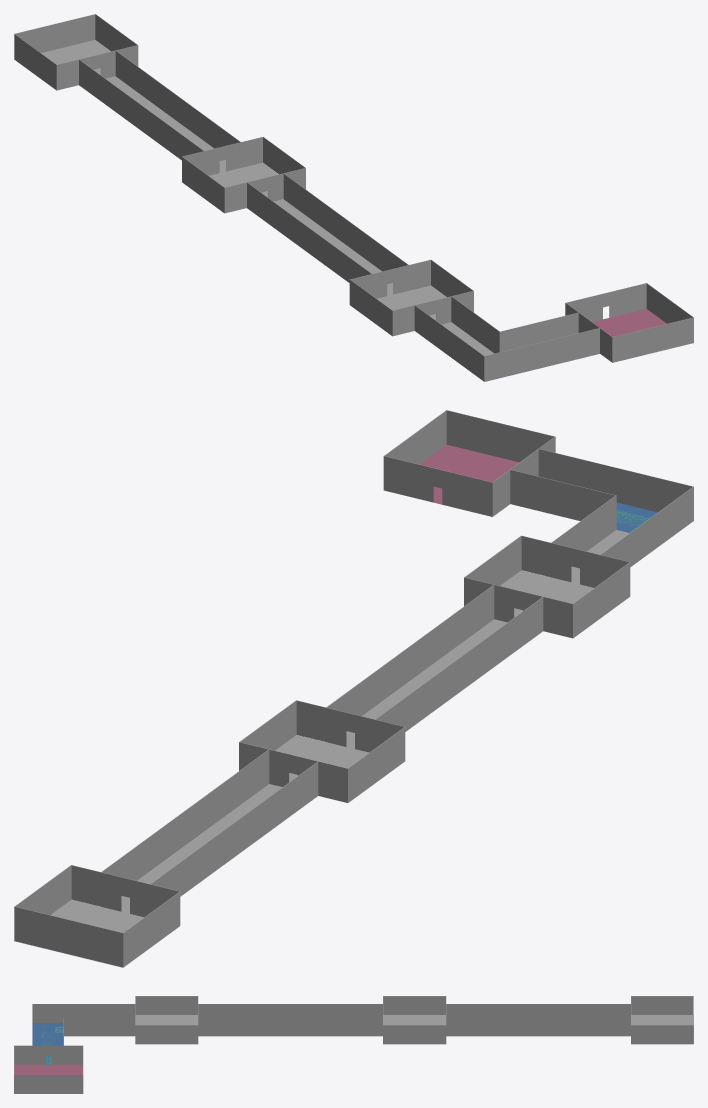
3 views of the same model, one above another, from view 1: azimuth 30°, elevation 25°; view 2: azimuth 150°, elevation 25°; view 3: azimuth 270°, elevation 25° (orthographic). The views are drawn at different scales.
Parts seen in each view (by area): view 1: Paredes_1, Habitacion_4, Paredes_4, Paredes_6, pCube12, pCube31, pCube22, pCube30, pCube23, pCube13, pCube8, pCube14 (+6 smaller); view 2: Habitacion_4, Paredes_1, Paredes_4, Paredes_6, pCube23, pCube30, pCube31, pCube22, pCube12, pCube8, pCube13, Piso_1 (+6 smaller); view 3: pCube22, pCube31, Paredes_1, pCube23, pCube30, Paredes_4, Paredes_6, Habitacion_4, pCube13, pCube14, Piso_2, Piso_1 (+3 smaller).
Part boxes in pixels (x1,y1,x2,y2): Paredes_1: (565,283,693,362); Habitacion_4: (14,14,138,90); Paredes_4: (349,259,473,336); Paredes_6: (182,137,305,213); pCube12: (484,328,599,381); pCube31: (115,51,240,148); pCube22: (283,173,408,271); pCube30: (79,59,203,160); pCube23: (247,182,371,282); pCube13: (414,305,484,381); pCube8: (499,312,578,352); pCube14: (451,296,499,353); Habitacion_4: (14,865,180,967); Paredes_1: (383,410,555,516); Paredes_4: (464,535,630,638); Paredes_6: (239,700,405,802); pCube23: (375,597,543,731); pCube30: (150,761,318,896); pCube31: (101,749,269,880); pCube22: (326,585,494,715); pCube12: (538,449,692,512); pCube8: (510,469,616,529); pCube13: (600,486,693,566); Piso_1: (385,445,519,515); pCube22: (198,1017,382,1036); pCube31: (446,1017,630,1036); Paredes_1: (14,1045,83,1093); pCube23: (198,1004,382,1017); pCube30: (446,1004,630,1017); Paredes_4: (135,996,198,1044); Paredes_6: (383,996,446,1044); Habitacion_4: (631,996,693,1044); pCube13: (32,1004,135,1022); pCube14: (64,1017,135,1036); Piso_2: (32,1023,63,1064); Piso_1: (14,1064,82,1074).
Bounding box in the file's own units: 269 × 30.16 × 980.
